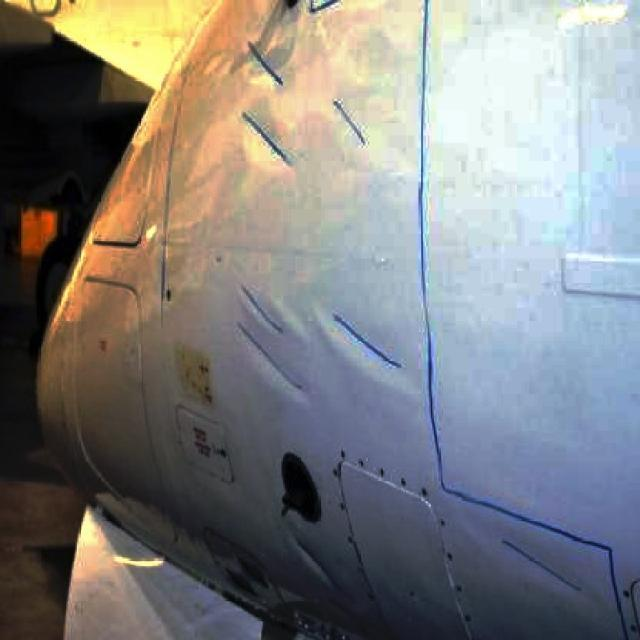dent: (475, 507, 583, 592), (291, 532, 354, 605), (241, 331, 300, 397), (337, 315, 400, 368), (249, 111, 298, 166), (243, 286, 285, 332), (333, 93, 367, 144), (252, 37, 283, 88)
